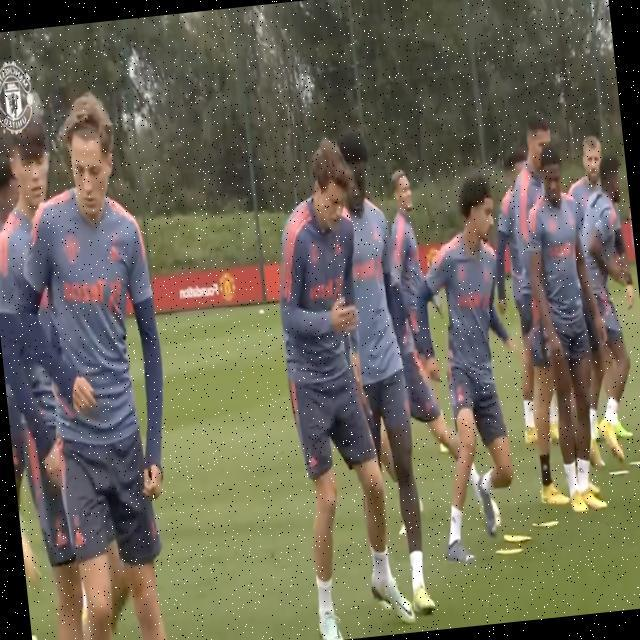Adidas: (53, 527, 70, 550), (106, 243, 122, 264), (73, 528, 88, 548), (306, 452, 317, 469), (332, 241, 343, 257)
